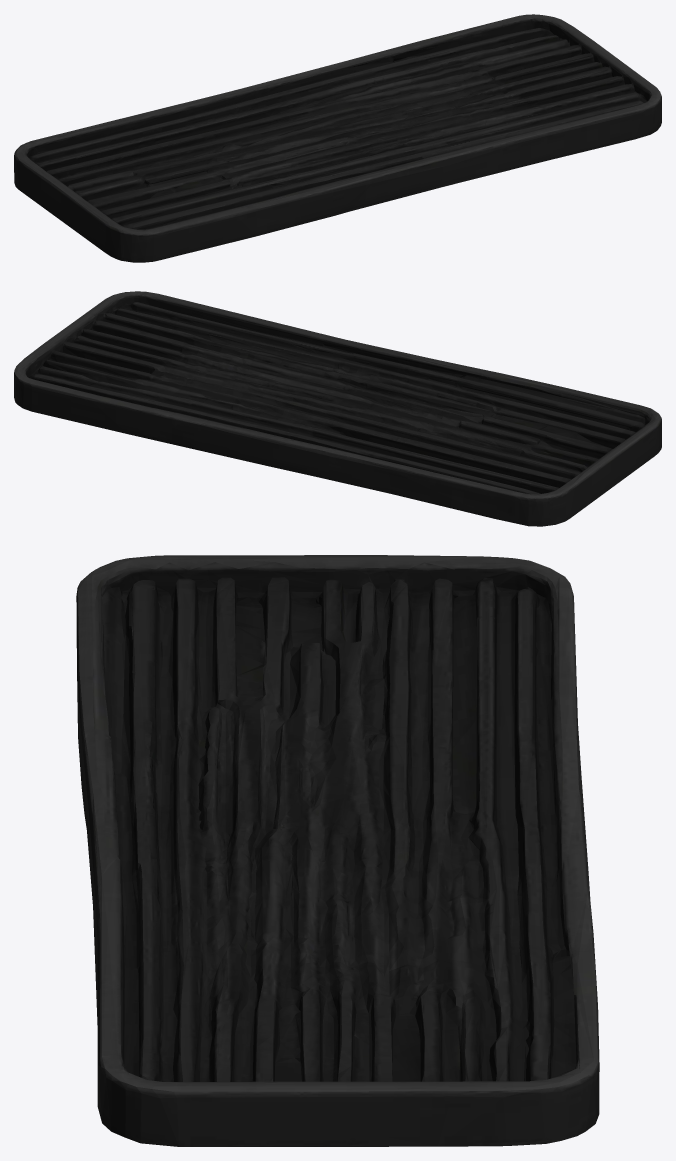
File: mat_ribbed_black.glb
The picture shows the model from 3 angles, top to bottom: view 1: azimuth 30°, elevation 25°; view 2: azimuth 150°, elevation 25°; view 3: azimuth 270°, elevation 25°; orthographic projection. The views are drawn at different scales.
Visible parts, largest first — view 1: geometry_0; view 2: geometry_0; view 3: geometry_0.
Part boxes in pixels (box(x1,y1,x2,y2)): geometry_0: box(14, 14, 661, 262); geometry_0: box(14, 291, 661, 526); geometry_0: box(76, 555, 599, 1146).
Size of the model in its own units: 0.9987 by 0.0543 by 0.414.
1 material, 1 textured.
